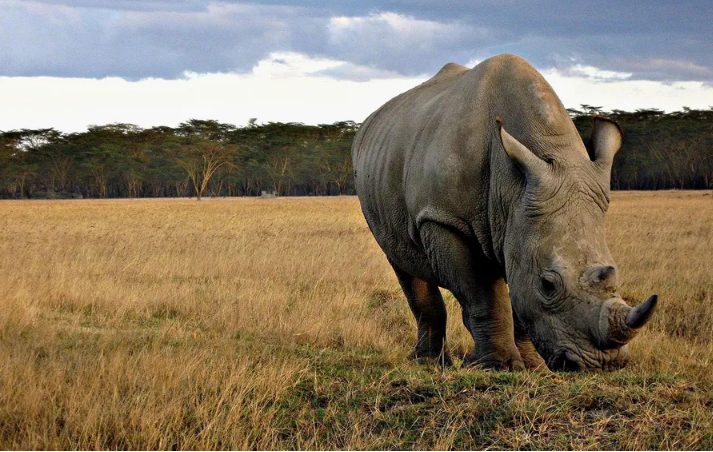rhinoceros: (350, 53, 662, 379)
